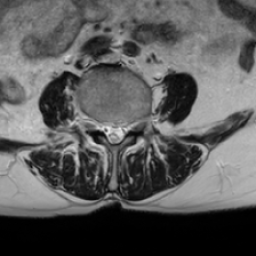CCS_normal: (111, 114, 117, 151)
LFS_normal: (127, 113, 136, 137)
LLS_normal: (117, 117, 126, 146)
RFS_normal: (93, 111, 102, 139)
RLS_normal: (102, 114, 111, 146)
